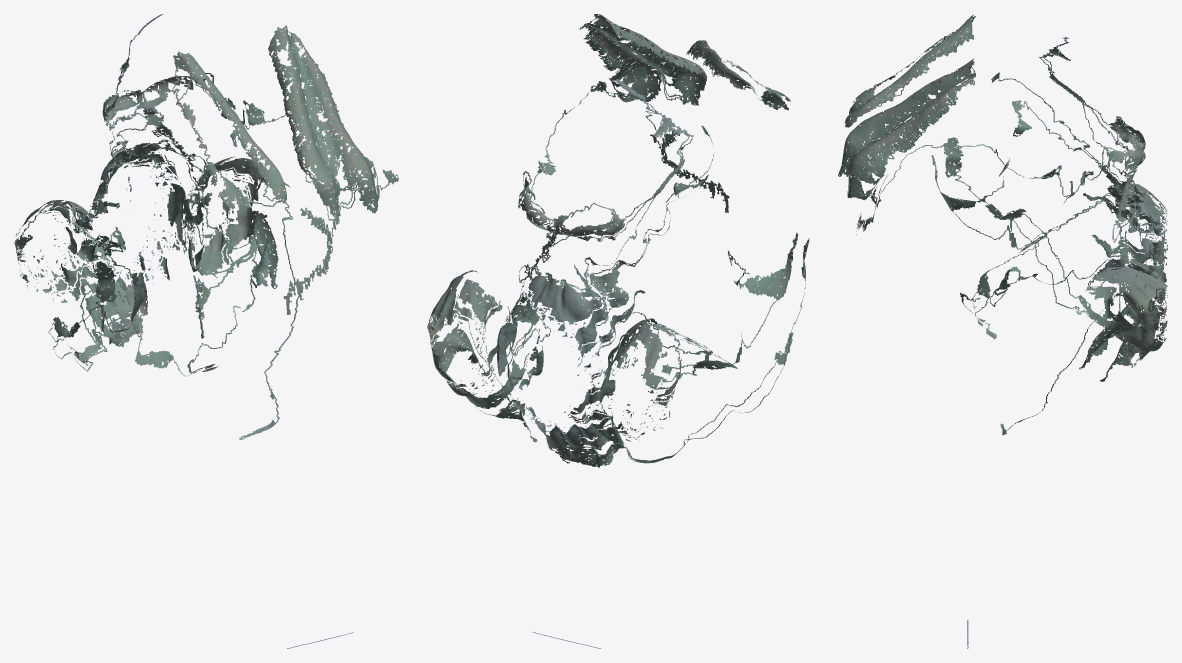
File: cthulhu17_material_0.002_lev1.glb
3 renders of one model, left to right at view 1: azimuth 30°, elevation 25°; view 2: azimuth 150°, elevation 25°; view 3: azimuth 270°, elevation 25°, orthographic. The views are drawn at different scales.
Visible parts, largest first — view 1: cthulhu17_material_0.002_lev1; view 2: cthulhu17_material_0.002_lev1; view 3: cthulhu17_material_0.002_lev1.
Boxes of the visible parts, <box> form: cthulhu17_material_0.002_lev1: <box>14,14,398,648</box>; cthulhu17_material_0.002_lev1: <box>427,14,809,648</box>; cthulhu17_material_0.002_lev1: <box>838,14,1167,648</box>.
Bounding box in the file's own units: 2.51 × 5.36 × 2.86.
